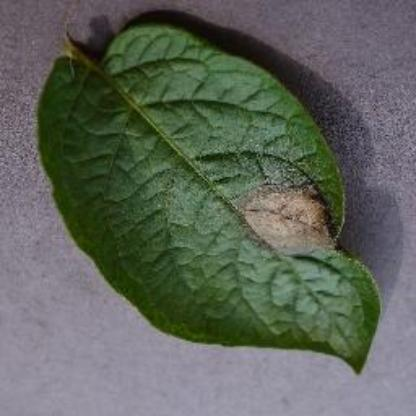Late-Blight: (24, 13, 388, 390)
